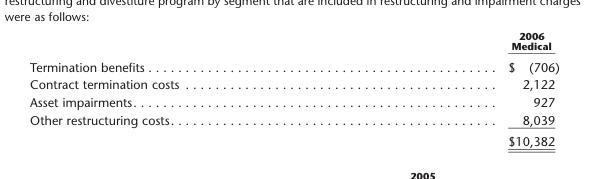table: (29, 29, 558, 148)
table column: (29, 29, 342, 148), (342, 29, 558, 148)
table column header: (29, 29, 558, 55)
table row: (29, 29, 558, 55), (29, 55, 558, 75), (29, 110, 558, 130), (29, 92, 558, 110), (29, 130, 558, 148), (29, 75, 558, 92)
